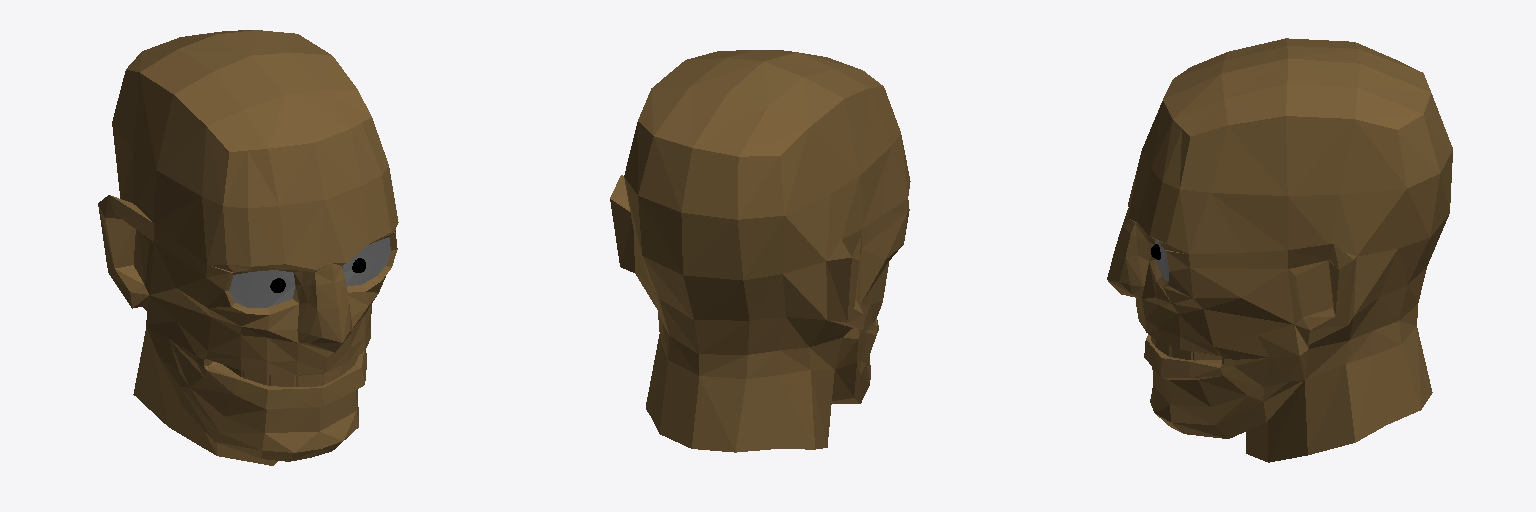
Rendered from LowHead.obj.
3 renders of one model, left to right at view 1: azimuth 30°, elevation 25°; view 2: azimuth 150°, elevation 25°; view 3: azimuth 270°, elevation 25°, orthographic.
Visible parts, largest first — view 1: initialShadingGroup pCylinder4, pCylinder4, initialShadingGroup pCylinder5; view 2: initialShadingGroup pCylinder4; view 3: initialShadingGroup pCylinder4, initialShadingGroup pCylinder5.
Boxes of the visible parts, x1,y1,x2,y2 form: initialShadingGroup pCylinder4: [98, 30, 398, 465]; pCylinder4: [229, 237, 390, 307]; initialShadingGroup pCylinder5: [224, 356, 357, 386]; initialShadingGroup pCylinder4: [610, 50, 910, 452]; initialShadingGroup pCylinder4: [1107, 38, 1452, 462]; initialShadingGroup pCylinder5: [1151, 336, 1221, 360].
Size of the model in its own units: 36.05 by 56.13 by 44.59.